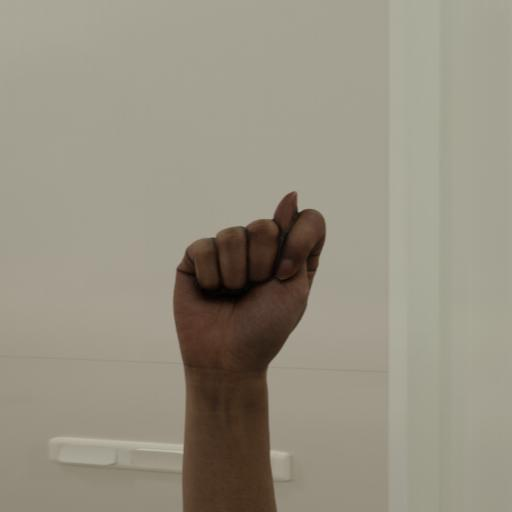T: (150, 169, 346, 377)
